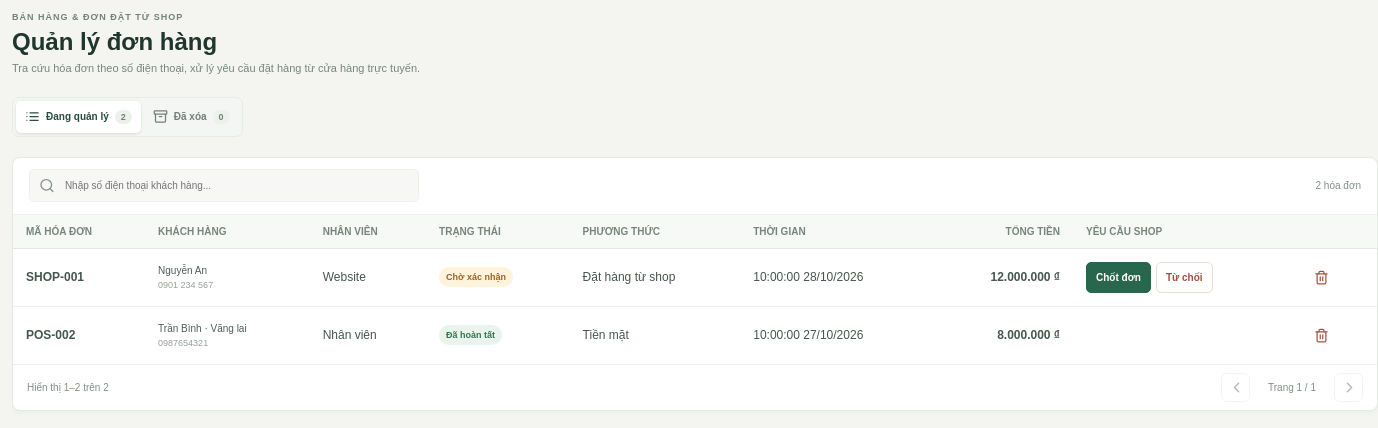
Test case: OrderManagementView › filters invoices by phone digits regardless of formatting
Expected: the text "SHOP-001" is shown, left=26, top=270, right=84, bottom=284
In the field named "Tìm hóa đơn theo số điện thoại": (236, 186) left=63, top=179, right=409, bottom=192, type "0901234567"
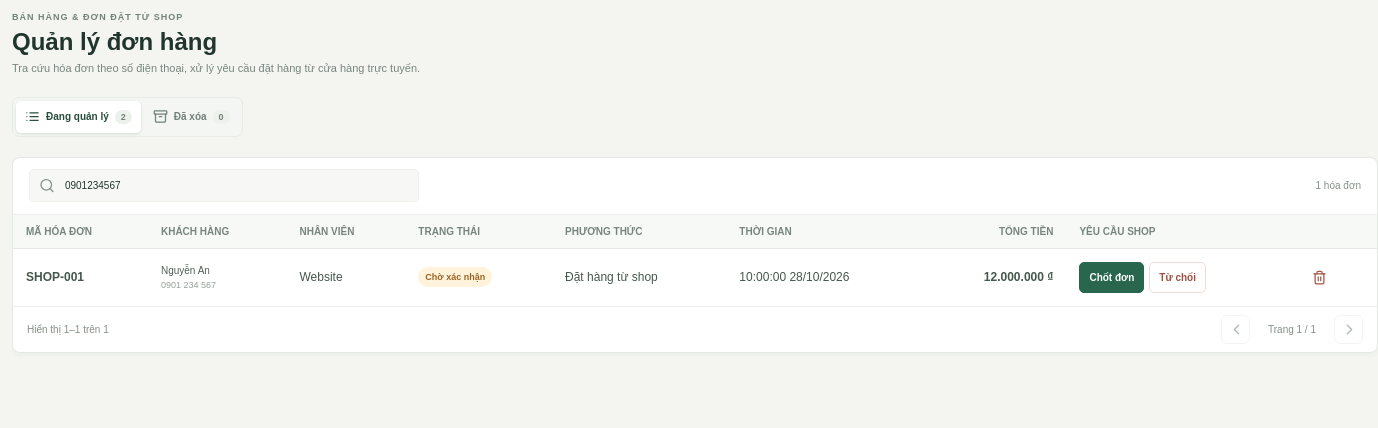
Expected: the text "SHOP-001" is shown, left=26, top=270, right=84, bottom=284
Now the text "POS-002" is gone
